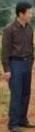boots: (8, 125, 22, 132)
